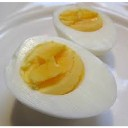begg: (7, 36, 126, 119)
